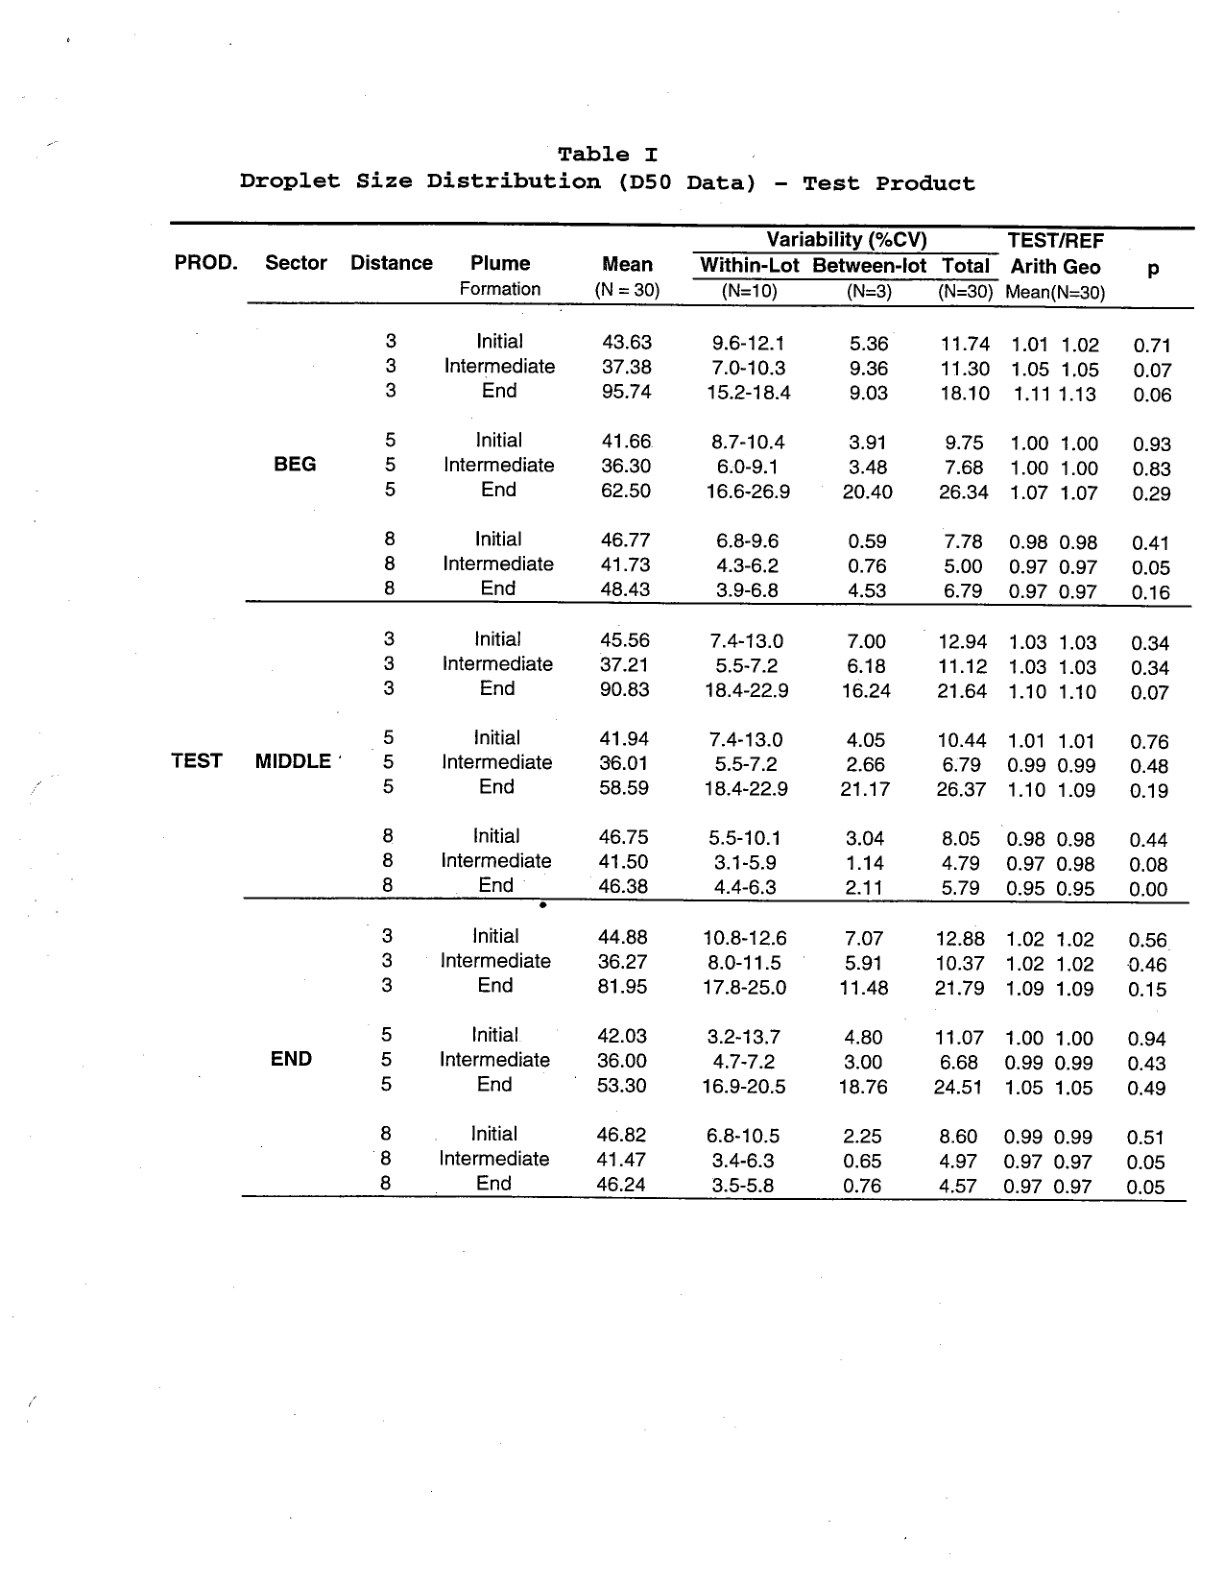partial_lined_merged_cells: (165, 213, 1201, 1209)
